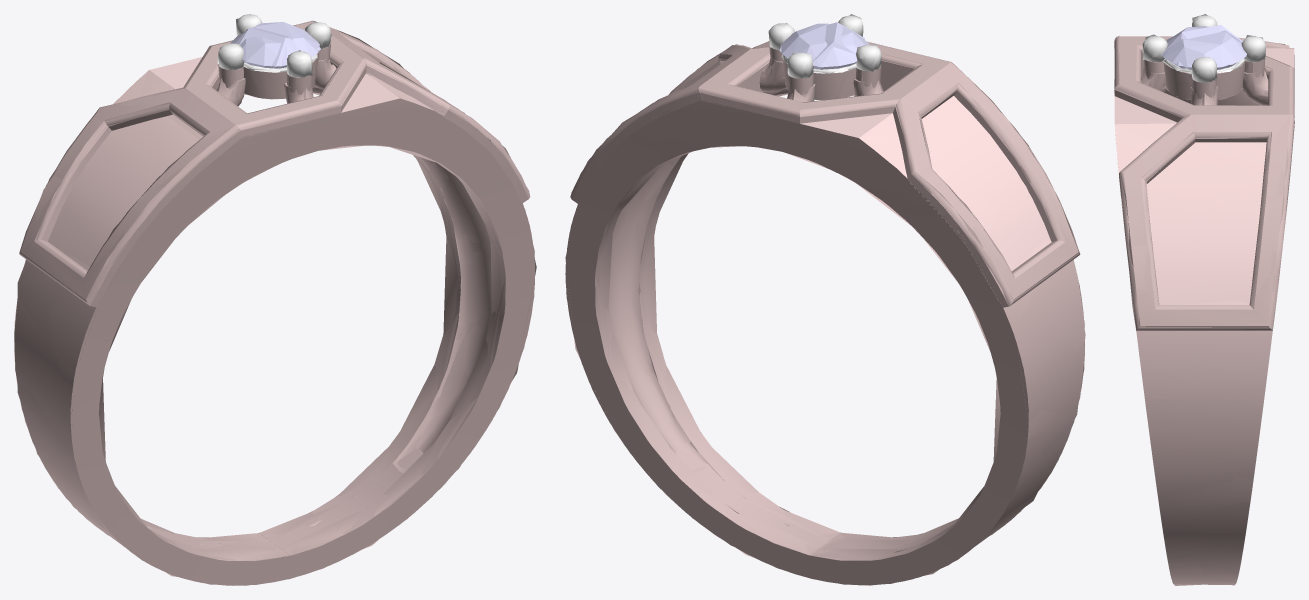
The model's file is DGR-D000694708.glb.
3 views of the same model, side by side, from view 1: azimuth 30°, elevation 25°; view 2: azimuth 150°, elevation 25°; view 3: azimuth 270°, elevation 25° (orthographic). The views are drawn at different scales.
Parts seen in each view (by area): view 1: lowPolyMesh, highPolyMesh; view 2: highPolyMesh, lowPolyMesh; view 3: highPolyMesh, lowPolyMesh.
Part boxes in pixels (x1,y1,x2,y2): lowPolyMesh: [14, 15, 536, 585]; highPolyMesh: [14, 14, 534, 585]; highPolyMesh: [565, 15, 1084, 585]; lowPolyMesh: [565, 14, 1085, 585]; highPolyMesh: [1114, 15, 1294, 585]; lowPolyMesh: [1114, 14, 1294, 585].
Size of the model in its own units: 0.0222 by 0.0246 by 0.00765.
